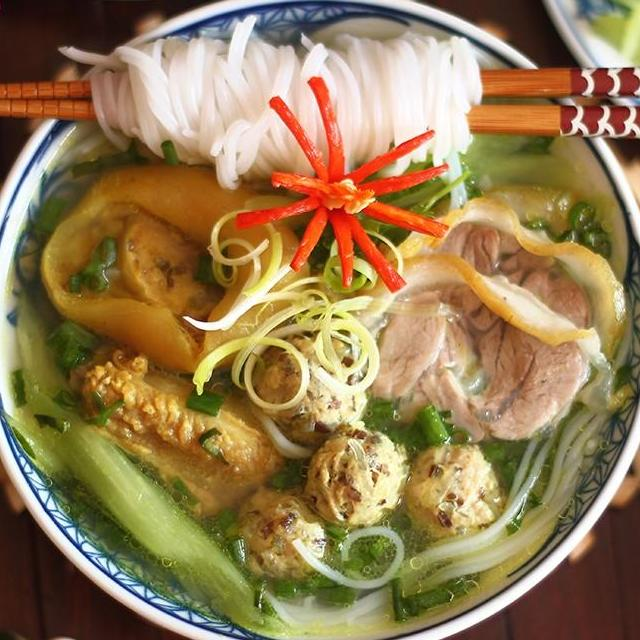bun: (55, 13, 510, 202), (249, 514, 496, 638), (494, 406, 609, 572)
bun moc: (0, 10, 640, 640)
thit heo: (353, 188, 631, 422), (344, 242, 619, 462)
vien moc: (244, 326, 387, 450), (394, 436, 510, 550), (295, 422, 413, 534), (222, 479, 336, 594)
